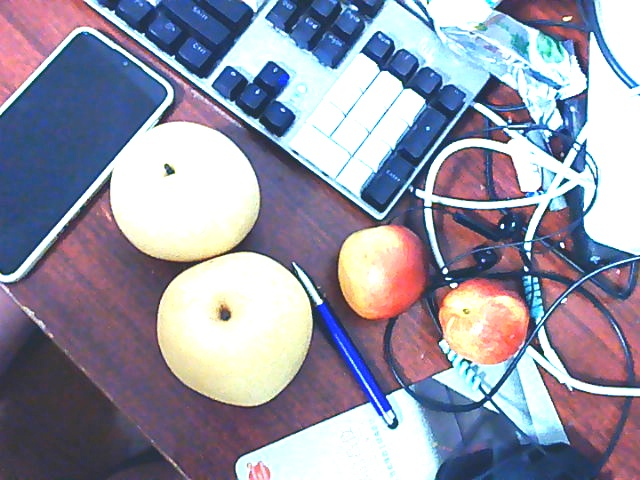peach: (338, 226, 425, 318), (438, 278, 529, 363)
pear: (157, 254, 318, 408), (109, 123, 266, 255)
